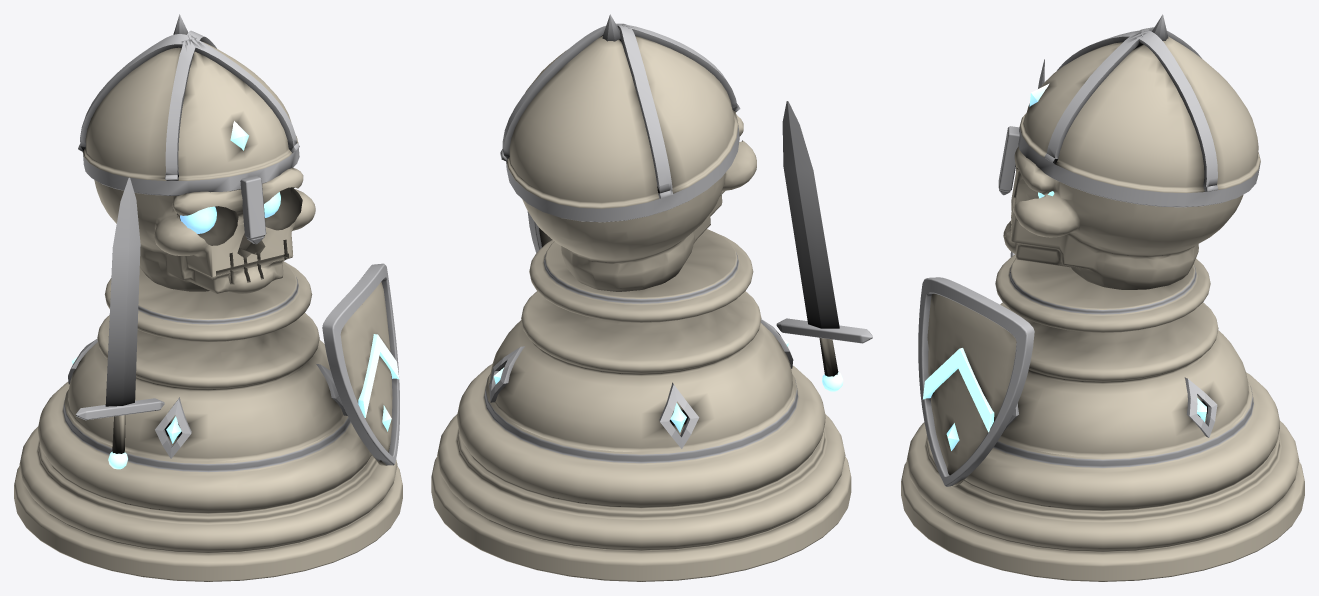
The model's file is sergeant.glb.
3 views of the same model, side by side, from view 1: azimuth 30°, elevation 25°; view 2: azimuth 150°, elevation 25°; view 3: azimuth 270°, elevation 25° (orthographic). The views are drawn at different scales.
Visible parts, largest first — view 1: sergeant; view 2: sergeant; view 3: sergeant.
Part boxes in pixels (x1,y1,x2,y2): sergeant: (14, 14, 402, 581); sergeant: (431, 14, 872, 581); sergeant: (901, 14, 1304, 581).
Bounding box in the file's own units: 0.7305 × 0.9512 × 0.72.
